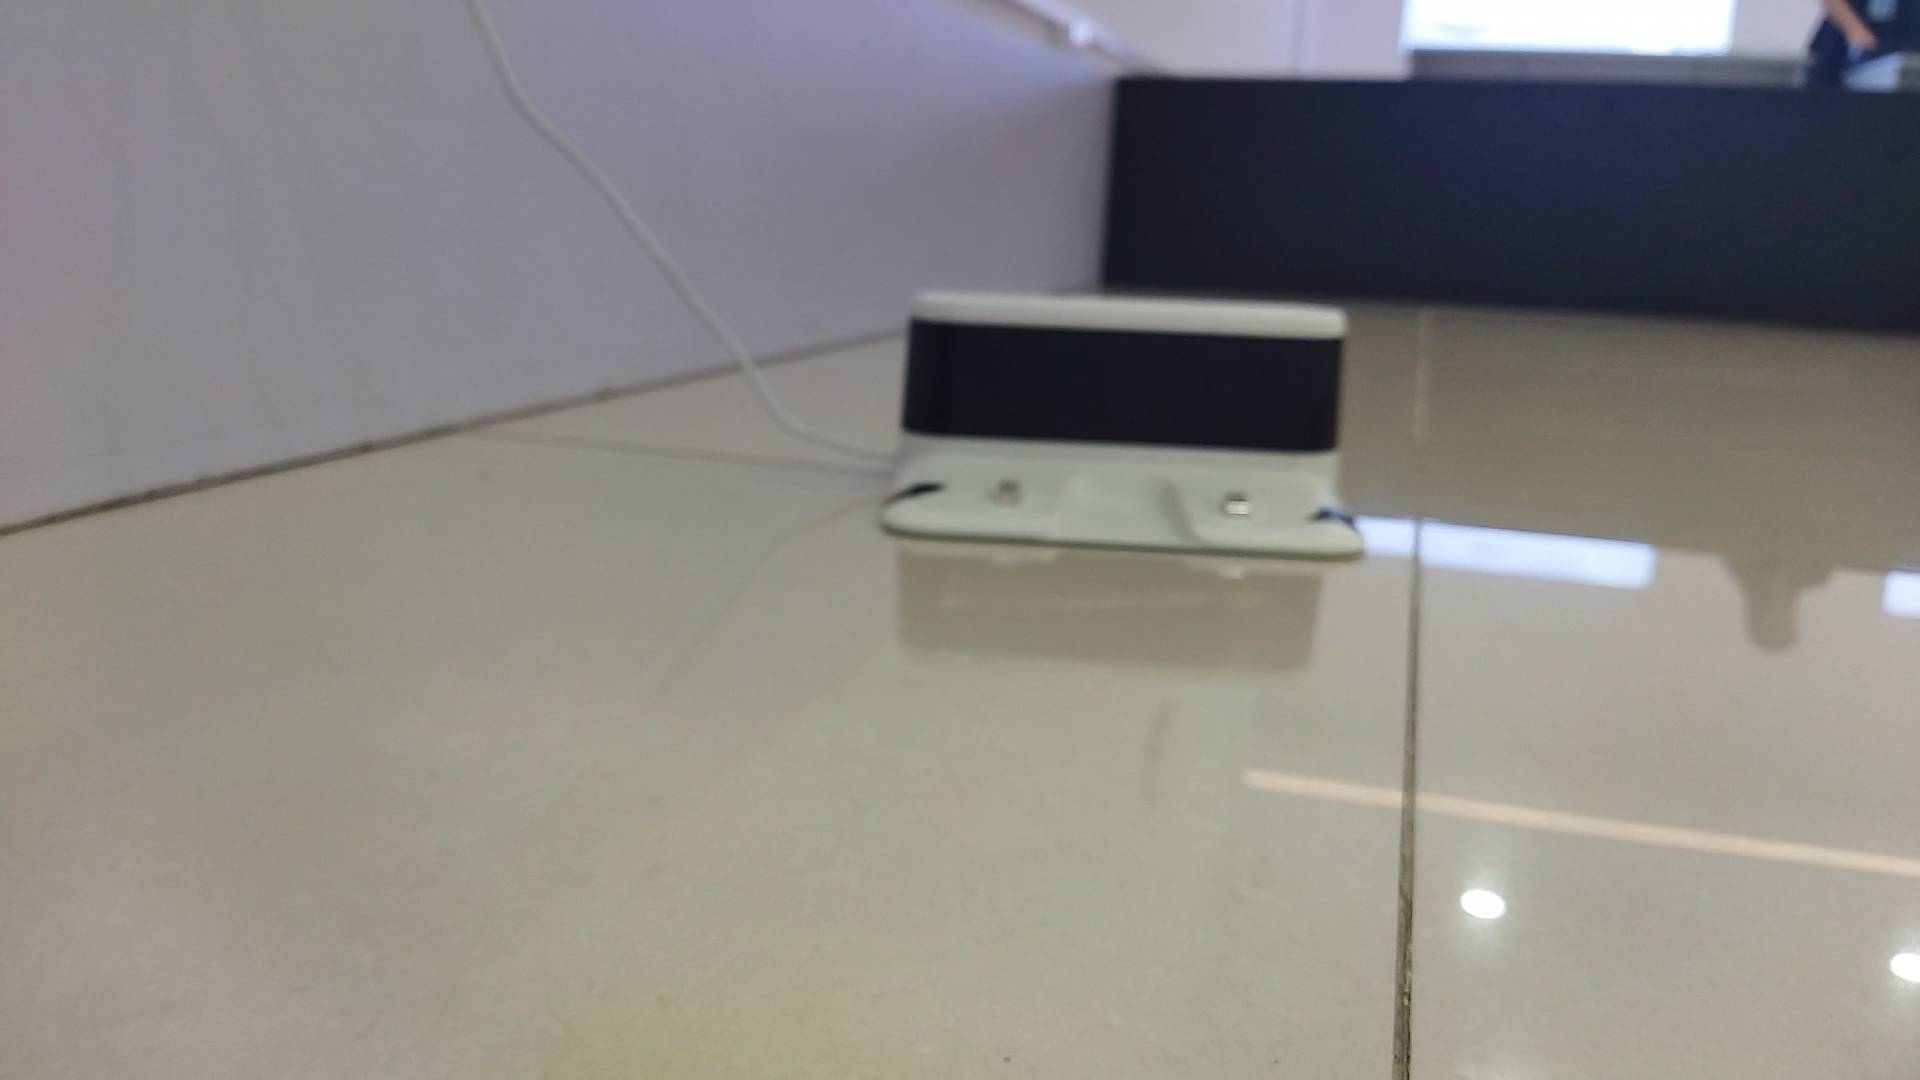recharge seat: (880, 291, 1369, 556)
